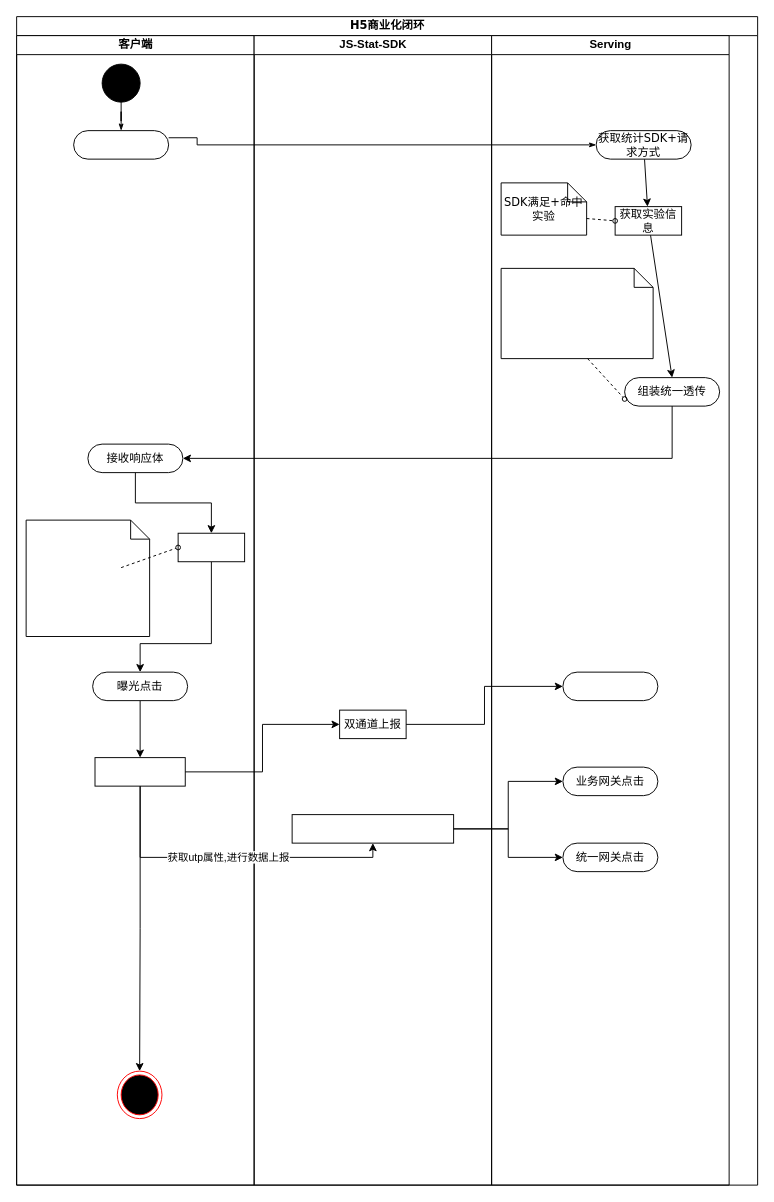
This 774x1202 diagram has some shape labels left out. Each missing label, with the centre of its shape:
"1. 落地链接增加#utp#参数 2. urlencode(utp-json-str) 3. utp增加#statUploadStrategy#" goes at point 576,313.
"1. 解释HTTP Get参数#utp# 2. json-str反序列化 3. 获取#statUploadStrategy# 确定数据双通道上报" goes at point 87,577.
"http请求广告" goes at point 121,144.
"伏羲接收曝光埋点" goes at point 610,686.
"传递统一透传" goes at point 139,771.
"打开落地页" goes at point 211,547.
"生成点击ID,双通道上报点击" goes at point 372,828.
